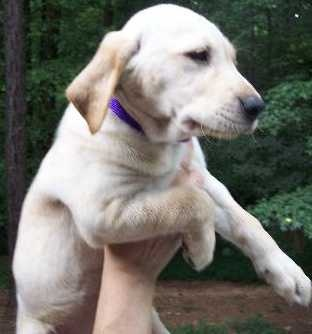Dog: (17, 4, 272, 299)
